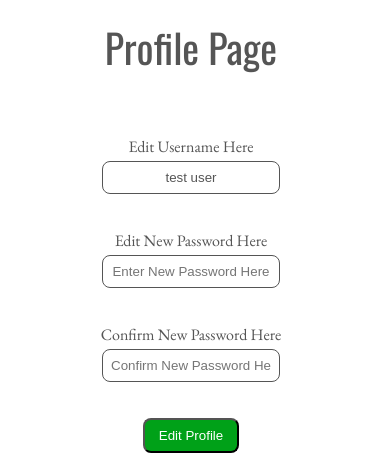
Test case: <BandleaderProfilePage/> › Successful edit user info
Replace the text in the field with test id "Edit Username HereTextInput" with "test user changed". click: (191, 177)
box: [102, 161, 280, 194]
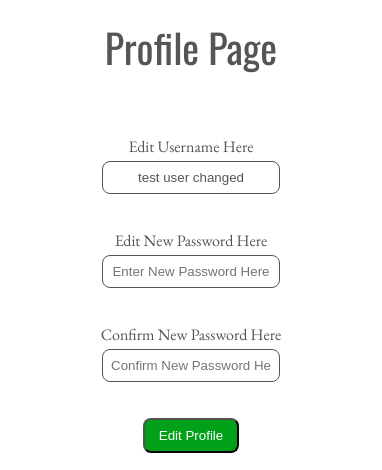
Type "new password" into the password field with test id "Edit New Password HereTextInput". click: (191, 271)
box: [102, 255, 280, 288]
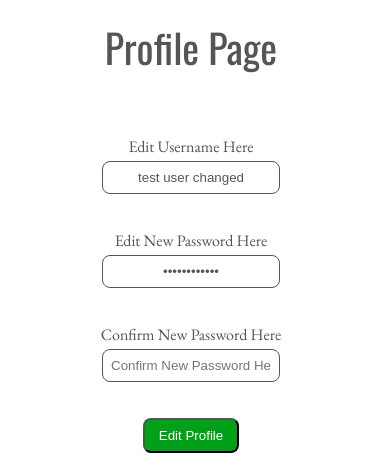
Type "new password" into the password field with test id "Confirm New Password HereTextInput". click: (191, 365)
box: [102, 349, 280, 382]
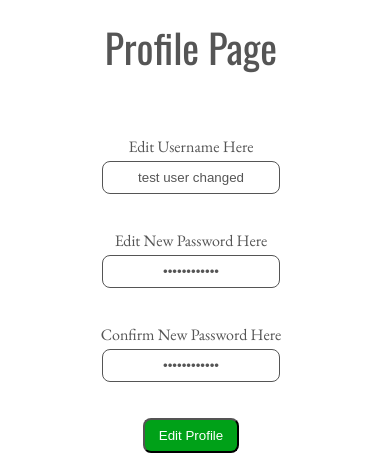
Click the button with test id "Edit ProfileButton". click: (191, 435)
box: [143, 418, 239, 453]
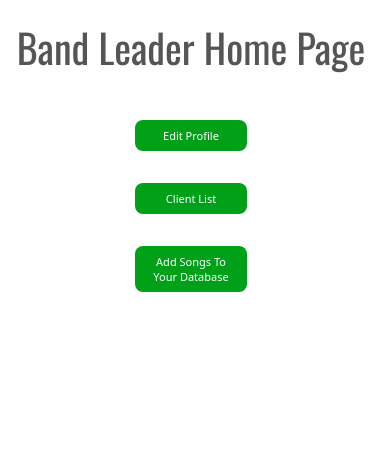
Check: the heading "Band Leader Home Page" is shown, box [17, 17, 365, 77]
